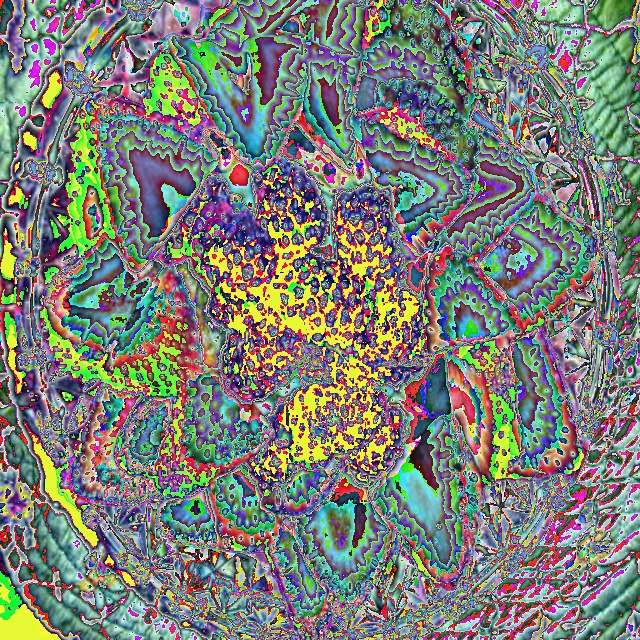background: (38, 0, 602, 640)
